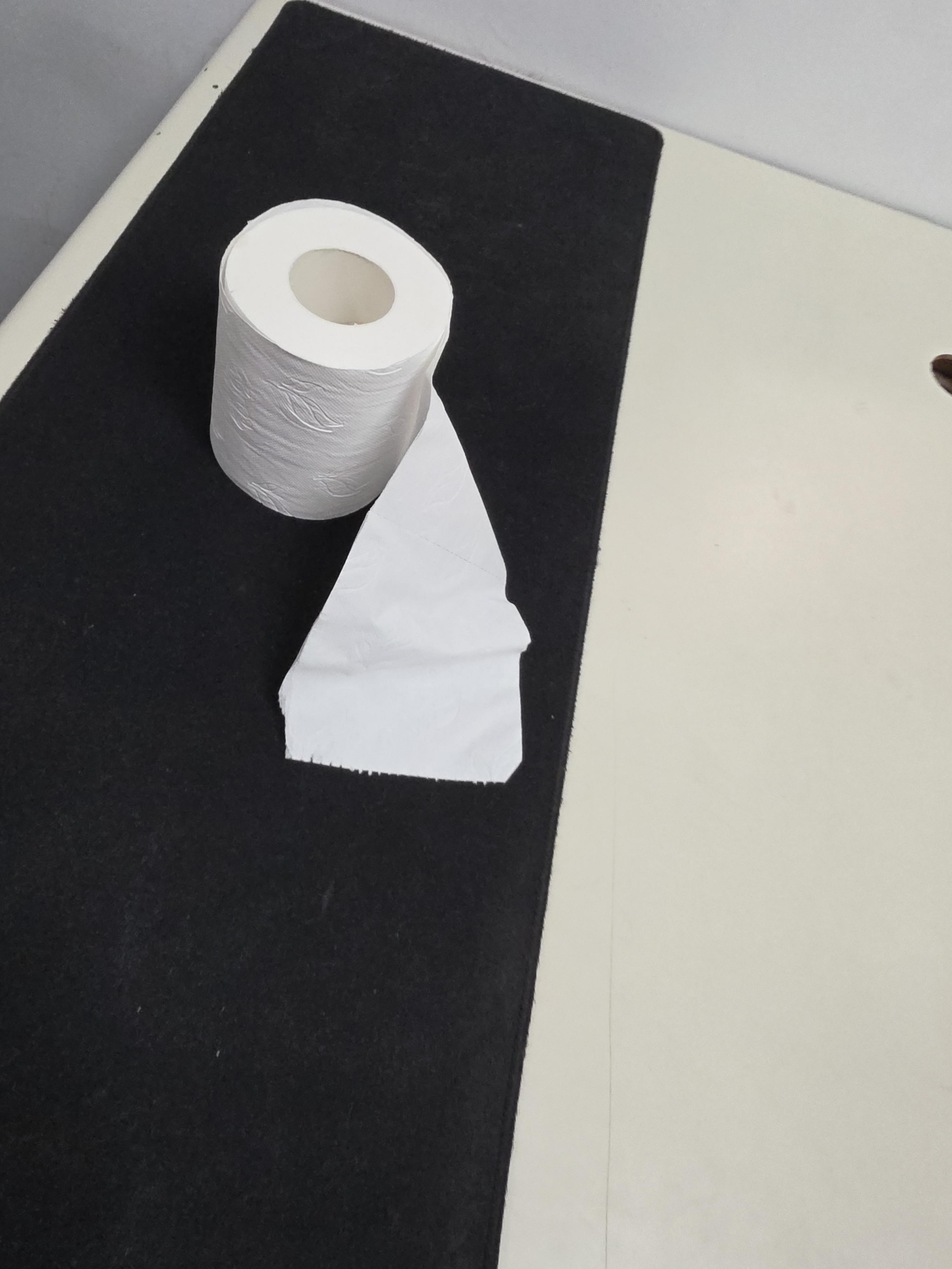tissue: (209, 198, 531, 785)
